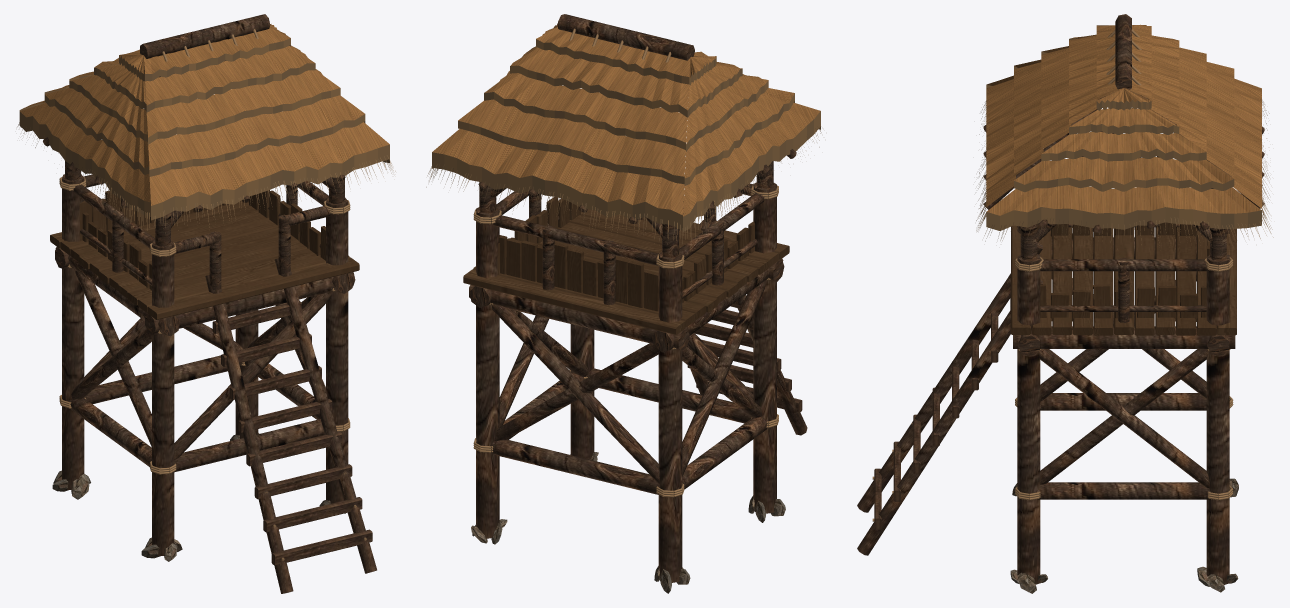
Rendered from watchtower.glb.
3 views of the same model, side by side, from view 1: azimuth 30°, elevation 25°; view 2: azimuth 150°, elevation 25°; view 3: azimuth 270°, elevation 25° (orthographic). The views are drawn at different scales.
Parts seen in each view (by area): view 1: part_0, part_3, part_2, part_4, part_1, part_5; view 2: part_0, part_3, part_2, part_4, part_1, part_5; view 3: part_0, part_3, part_2, part_4, part_1, part_5.
Part boxes in pixels (x1,y1,x2,y2): part_0: [43, 14, 376, 593]; part_3: [20, 24, 389, 205]; part_2: [50, 190, 359, 319]; part_4: [17, 38, 395, 233]; part_1: [59, 19, 366, 560]; part_5: [52, 433, 345, 561]; part_0: [469, 14, 807, 582]; part_3: [432, 23, 820, 216]; part_2: [463, 196, 789, 334]; part_4: [426, 39, 821, 247]; part_1: [473, 18, 778, 497]; part_5: [471, 452, 785, 593]; part_0: [857, 14, 1264, 584]; part_3: [986, 24, 1261, 215]; part_2: [1011, 222, 1236, 335]; part_4: [976, 38, 1273, 249]; part_1: [872, 22, 1233, 521]; part_5: [1010, 478, 1238, 593].
Size of the model in its own units: 2.57 by 4.59 by 3.5.
6 materials, 4 textured.
